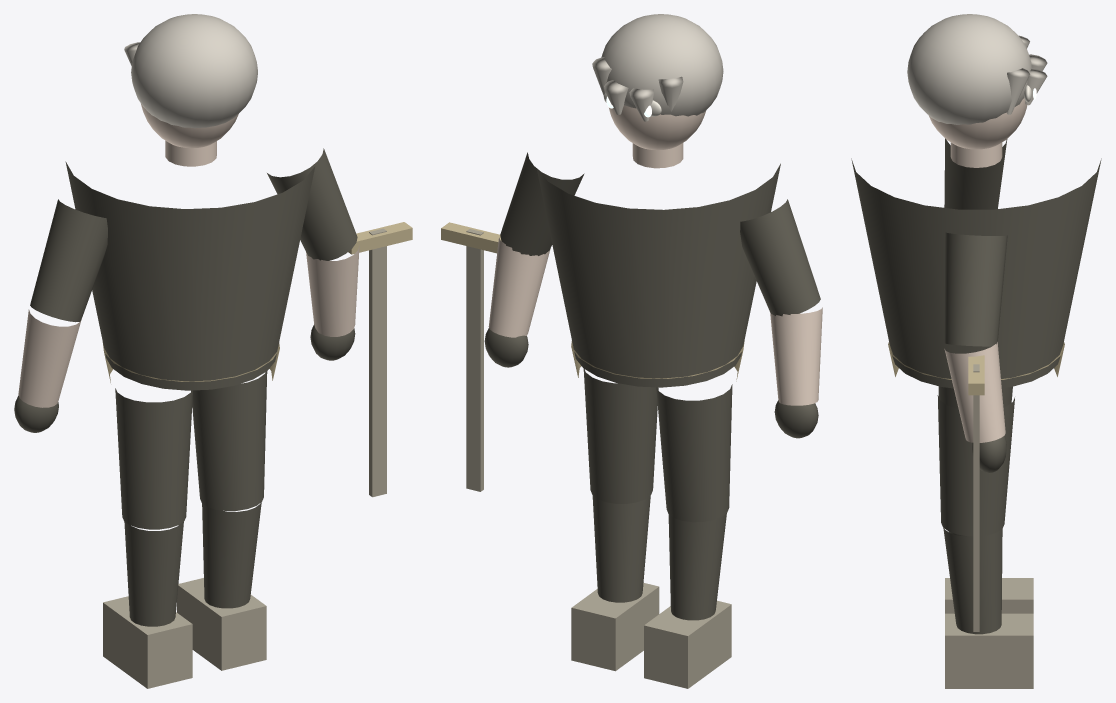
The model's file is kael-procedural-v1.glb.
3 renders of one model, left to right at view 1: azimuth 30°, elevation 25°; view 2: azimuth 150°, elevation 25°; view 3: azimuth 270°, elevation 25°, orthographic. The views are drawn at different scales.
Visible parts, largest first — view 1: Outfit_Torso, Hair_Cap, Body_Thigh_L, Body_Thigh_R, Body_UpperArm_L, Outfit_Boot_L, Outfit_Boot_R, Body_Shin_R, Body_Shin_L, Weapon_SwordBlade, Body_UpperArm_R, Body_Forearm_L (+6 smaller); view 2: Outfit_Torso, Hair_Cap, Body_Thigh_L, Body_Thigh_R, Body_UpperArm_L, Outfit_Boot_L, Outfit_Boot_R, Body_Shin_R, Body_Shin_L, Weapon_SwordBlade, Body_Forearm_L, Body_Forearm_R (+6 smaller); view 3: Outfit_Torso, Hair_Cap, Body_UpperArm_R, Body_Thigh_R, Outfit_Boot_R, Body_Shin_R, Body_Forearm_R, Body_UpperArm_L, Body_Head, Weapon_SwordBlade, Outfit_Boot_L, Body_Neck (+5 smaller).
Boxes of the visible parts, box(x1,y1,x2,y2) form: Outfit_Torso: box(65, 161, 315, 390); Hair_Cap: box(131, 14, 257, 128); Body_Thigh_L: box(115, 388, 192, 529); Body_Thigh_R: box(191, 371, 267, 510); Body_UpperArm_L: box(30, 199, 107, 322); Outfit_Boot_L: box(103, 596, 192, 688); Outfit_Boot_R: box(177, 578, 266, 670); Body_Shin_R: box(202, 502, 261, 608); Body_Shin_L: box(124, 521, 183, 626); Weapon_SwordBlade: box(369, 228, 386, 497); Body_UpperArm_R: box(267, 148, 357, 260); Body_Forearm_L: box(18, 309, 81, 407); Outfit_Torso: box(536, 163, 780, 387); Hair_Cap: box(601, 14, 723, 116); Body_Thigh_L: box(656, 384, 732, 522); Body_Thigh_R: box(583, 369, 658, 503); Body_UpperArm_L: box(740, 199, 820, 316); Outfit_Boot_L: box(644, 600, 731, 688); Outfit_Boot_R: box(571, 583, 659, 671); Body_Shin_R: box(592, 495, 650, 602); Body_Shin_L: box(668, 513, 726, 620); Weapon_SwordBlade: box(466, 229, 483, 491); Body_Forearm_L: box(770, 307, 822, 405); Body_Forearm_R: box(488, 237, 550, 337); Outfit_Torso: box(851, 158, 1101, 388); Hair_Cap: box(907, 14, 1031, 124); Body_UpperArm_R: box(944, 232, 1007, 346); Body_Thigh_R: box(937, 395, 1014, 536); Outfit_Boot_R: box(945, 613, 1033, 688); Body_Shin_R: box(943, 528, 1002, 634); Body_Forearm_R: box(944, 342, 1005, 442); Body_UpperArm_L: box(944, 138, 1007, 209); Body_Head: box(928, 98, 1027, 149); Weapon_SwordBlade: box(973, 364, 979, 631); Outfit_Boot_L: box(945, 578, 1033, 613); Body_Neck: box(950, 142, 1002, 167).
Bounding box in the file's own units: 1.2 × 1.91 × 0.68.
